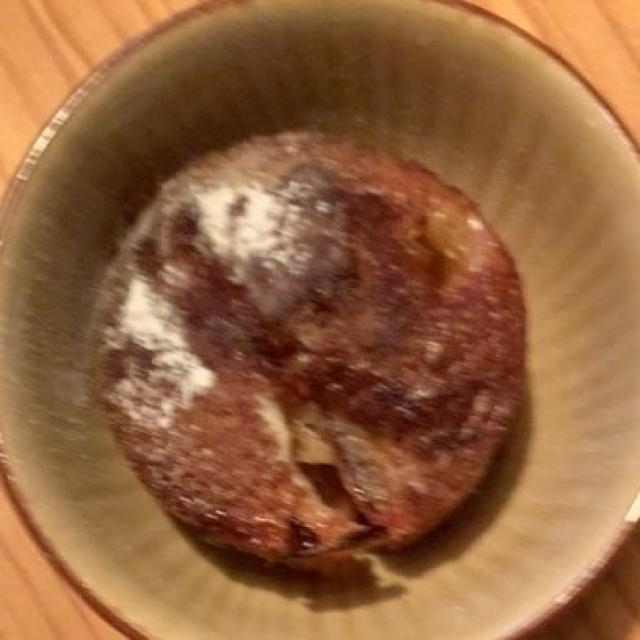fruit-tart: (110, 116, 518, 589)
